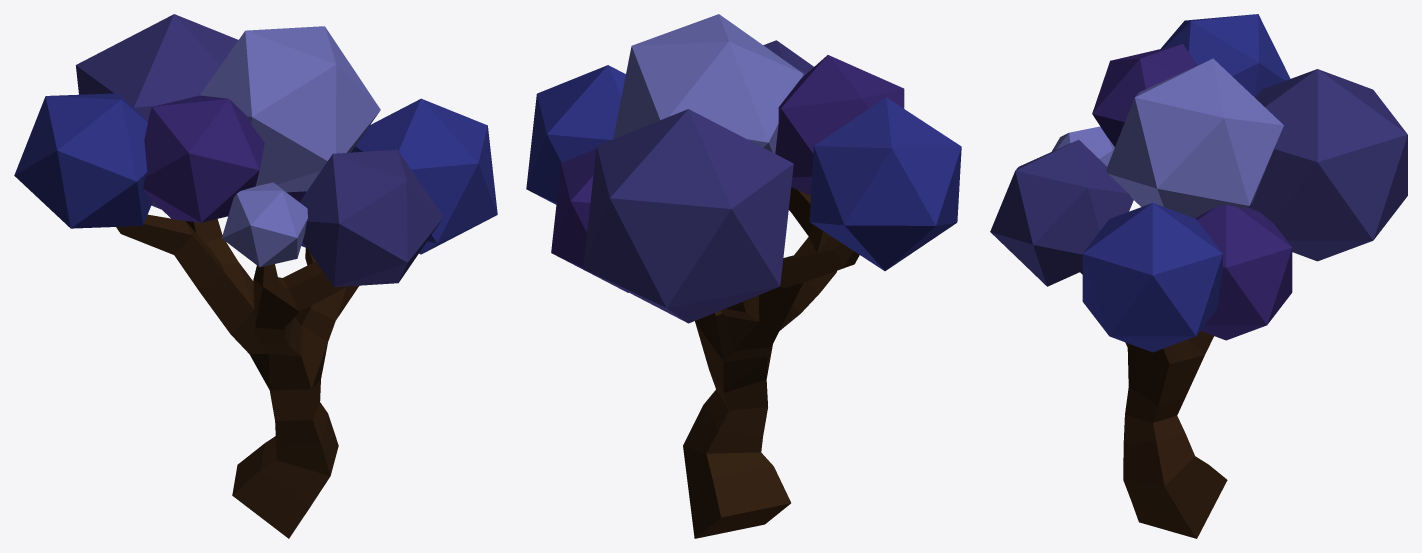
File: Tree1.1.fbx
3 renders of one model, left to right at view 1: azimuth 30°, elevation 25°; view 2: azimuth 150°, elevation 25°; view 3: azimuth 270°, elevation 25°, orthographic. The views are drawn at different scales.
Parts seen in each view (by area): view 1: Plane; view 2: Plane; view 3: Plane.
Part boxes in pixels (x1,y1,x2,y2): Plane: [14, 14, 497, 538]; Plane: [526, 14, 961, 538]; Plane: [990, 14, 1407, 538].
Size of the model in its own units: 442 by 480 by 393.
5 materials, 5 textured.
